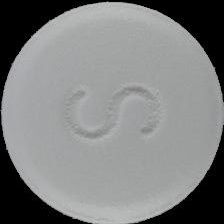68788-7386: (0, 0, 224, 224)
